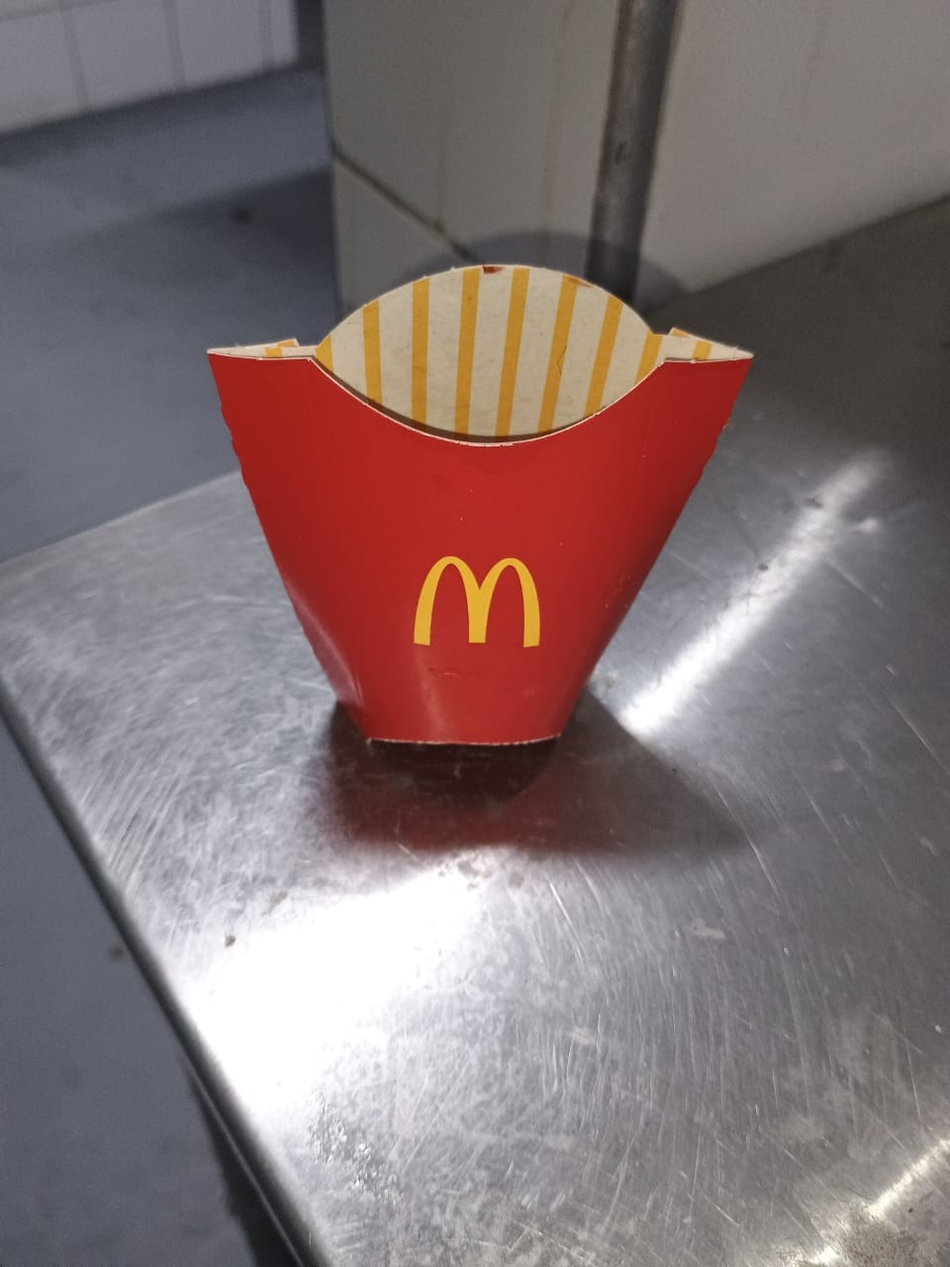Carton: (201, 260, 756, 747)
